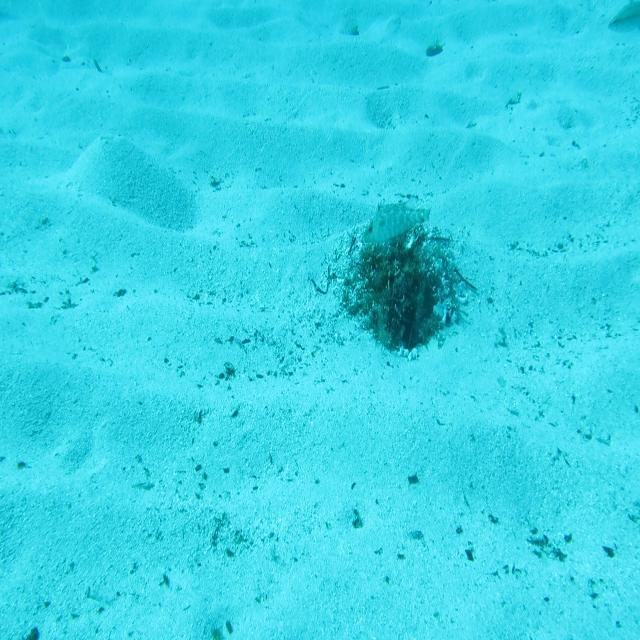UP: (361, 197, 433, 246)
female: (606, 0, 640, 37)
nest: (342, 222, 467, 366)
